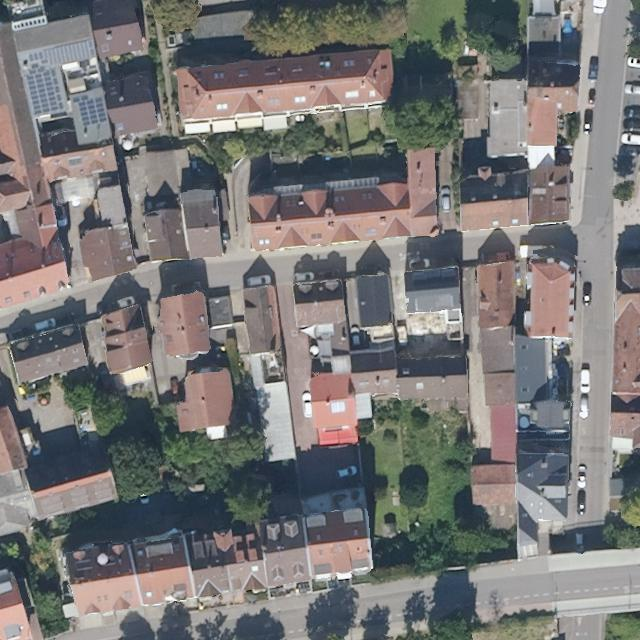PV: (22, 62, 66, 118), (24, 37, 98, 68), (69, 92, 108, 129)
